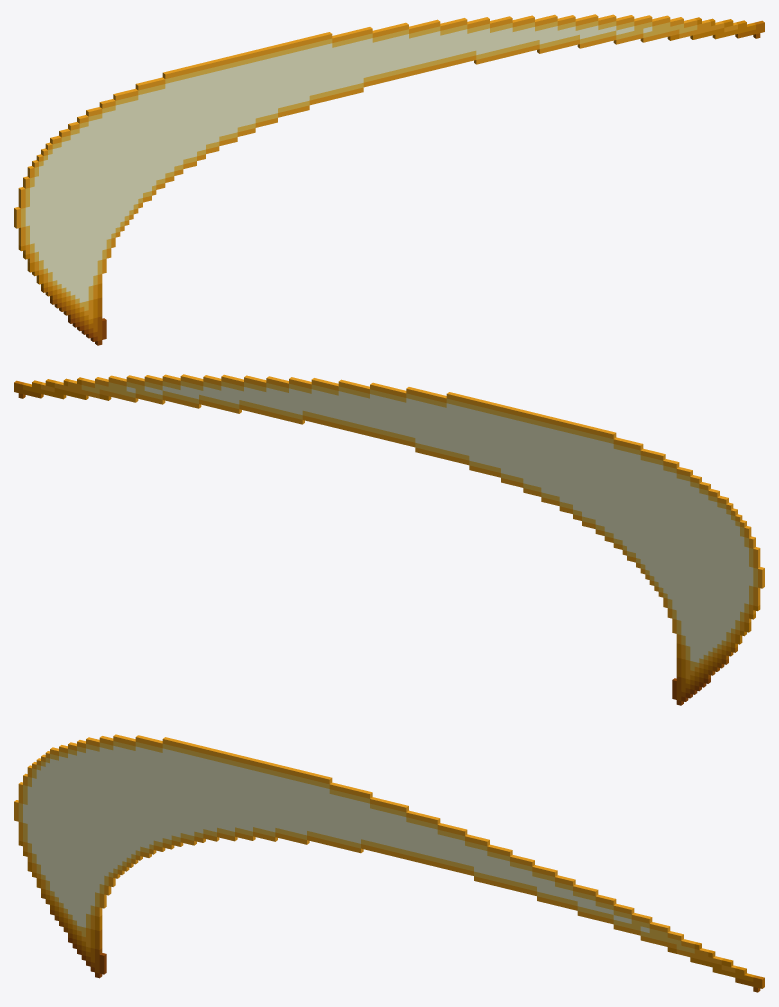
The model's file is Fight_018_2_09_fx.obj.
3 renders of one model, top to bottom at view 1: azimuth 30°, elevation 25°; view 2: azimuth 150°, elevation 25°; view 3: azimuth 330°, elevation 25°, orthographic.
Bounding box in the file's own units: 16.6 × 5.4 × 0.1.
Materials: 1 (1 with a texture image).
